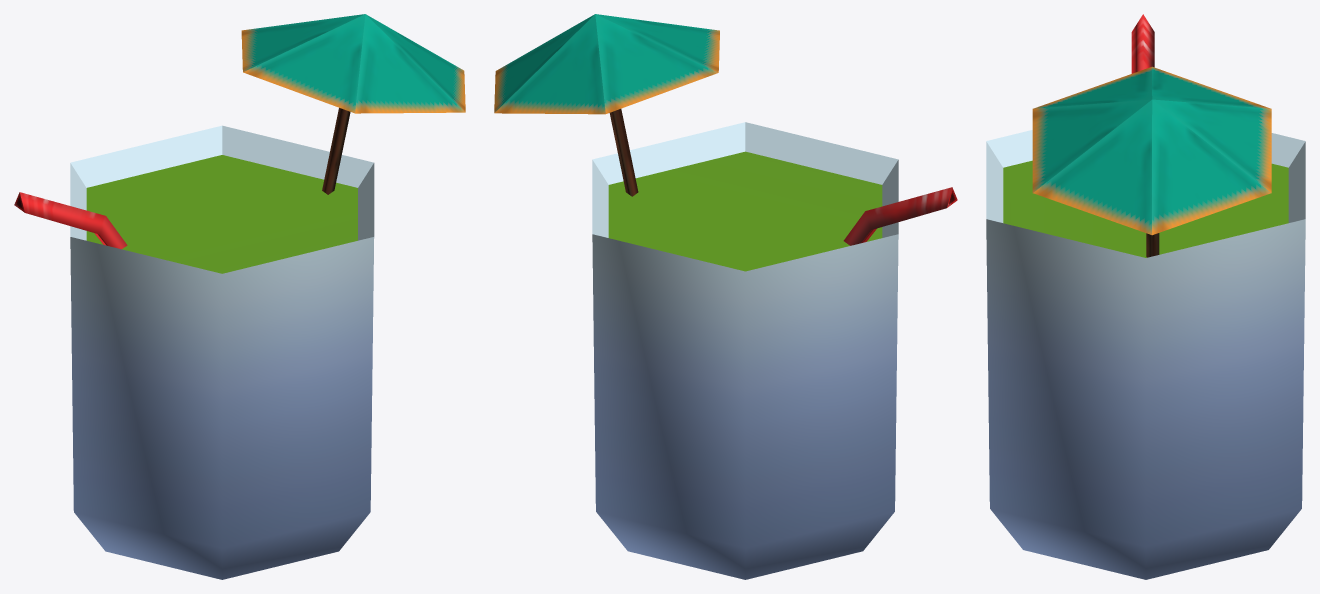
Rendered from ETC0610016.fbx.
3 renders of one model, left to right at view 1: azimuth 30°, elevation 25°; view 2: azimuth 150°, elevation 25°; view 3: azimuth 270°, elevation 25°, orthographic. The views are drawn at different scales.
Visible parts, largest first — view 1: smETC0610016; view 2: smETC0610016; view 3: smETC0610016.
Part boxes in pixels (x1,y1,x2,y2): smETC0610016: [14, 14, 465, 579]; smETC0610016: [494, 14, 957, 579]; smETC0610016: [986, 14, 1305, 579].
Size of the model in its own units: 27.69 by 27.77 by 16.23.
1 material, 1 textured.
